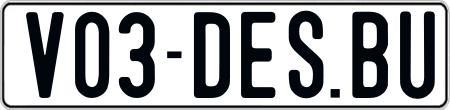0: (75, 11, 113, 100)
3: (116, 9, 154, 95)
B: (349, 9, 385, 96)
D: (194, 10, 232, 102)
E: (240, 12, 274, 104)
S: (287, 10, 321, 99)
U: (400, 8, 437, 98)
V: (23, 11, 62, 97)
